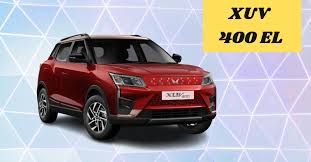XUV 400: (36, 32, 217, 140)
